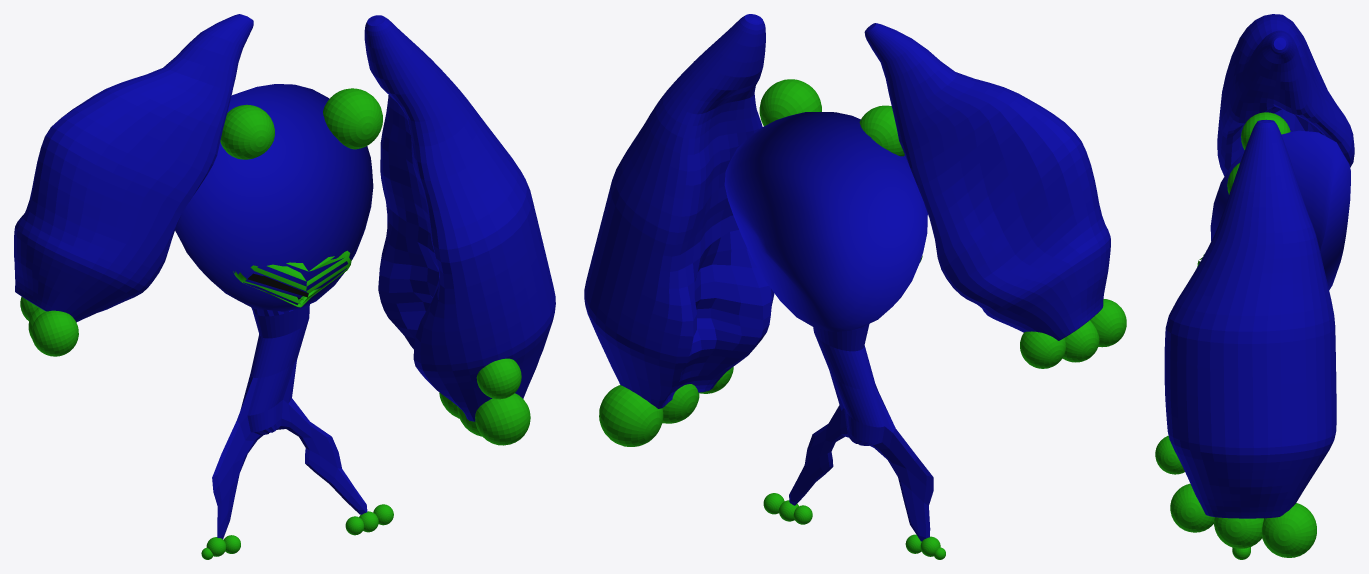
Rendered from monsterinparts.FBX.
The picture shows the model from 3 angles, left to right: view 1: azimuth 30°, elevation 25°; view 2: azimuth 150°, elevation 25°; view 3: azimuth 270°, elevation 25°; orthographic projection. The views are drawn at different scales.
Visible parts, largest first — view 1: arm 2, arm1, head, body, eyes; view 2: arm 2, arm1, head, body, eyes; view 3: arm 2, arm1, head, eyes.
Part boxes in pixels (x1=…): arm 2: x1=364, y1=15, x2=555, y2=445; arm1: x1=14, y1=14, x2=253, y2=356; head: x1=175, y1=84, x2=373, y2=311; body: x1=201, y1=304, x2=393, y2=559; eyes: x1=220, y1=88, x2=382, y2=159; arm 2: x1=584, y1=14, x2=774, y2=446; arm1: x1=864, y1=23, x2=1126, y2=368; head: x1=724, y1=112, x2=927, y2=331; body: x1=763, y1=324, x2=945, y2=559; eyes: x1=759, y1=79, x2=904, y2=156; arm 2: x1=1155, y1=119, x2=1336, y2=557; arm1: x1=1217, y1=14, x2=1354, y2=176; head: x1=1197, y1=130, x2=1350, y2=289; eyes: x1=1227, y1=112, x2=1290, y2=194.
Bounding box in the file's own units: 88.48 × 87.03 × 33.31.
